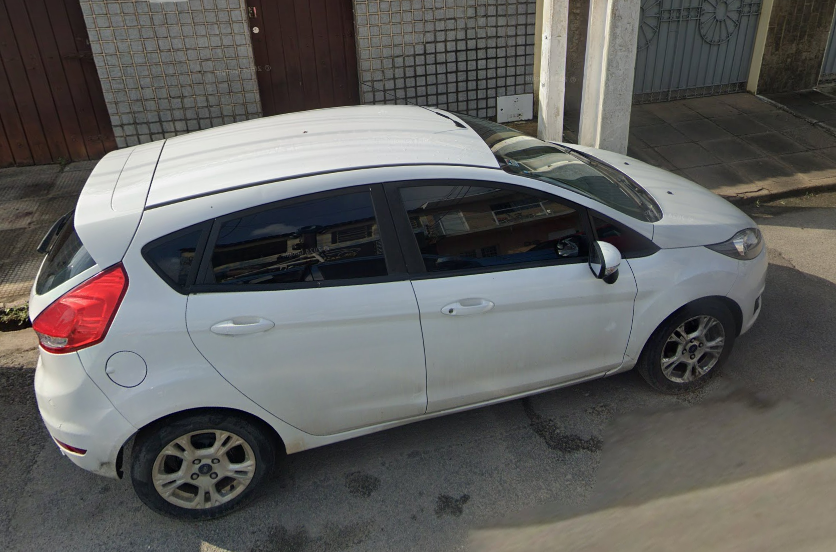car: (28, 100, 772, 524)
